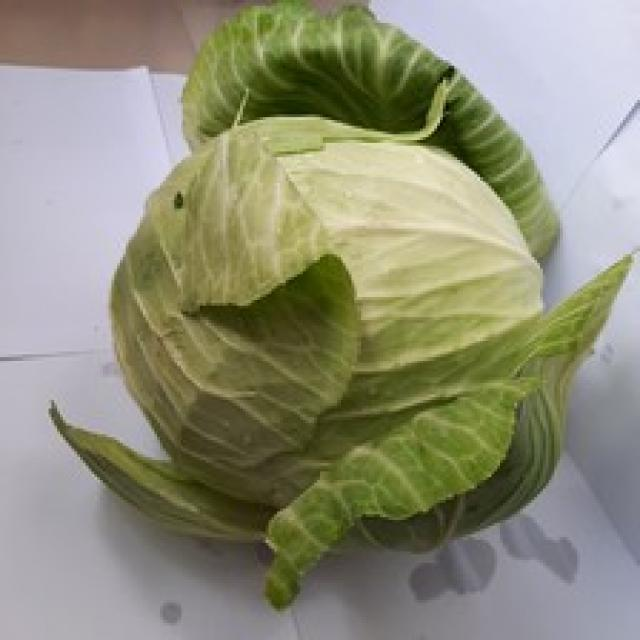Cabbage: (46, 0, 637, 609)
